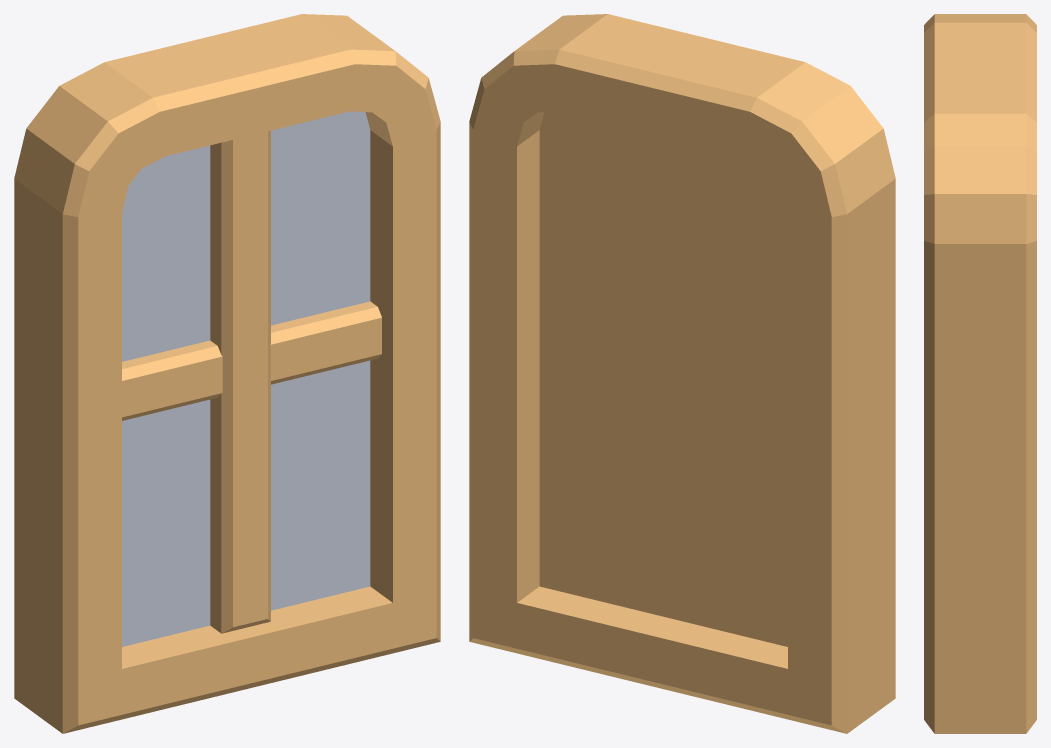
File: pencere.fbx
3 renders of one model, left to right at view 1: azimuth 30°, elevation 25°; view 2: azimuth 150°, elevation 25°; view 3: azimuth 270°, elevation 25°, orthographic. The views are drawn at different scales.
Parts seen in each view (by area): view 1: pencere; view 2: pencere; view 3: pencere.
Part boxes in pixels (x1,y1,x2,y2): pencere: [14, 14, 440, 733]; pencere: [469, 14, 895, 733]; pencere: [924, 14, 1036, 733].
Size of the model in its own units: 380 by 590 by 104.
